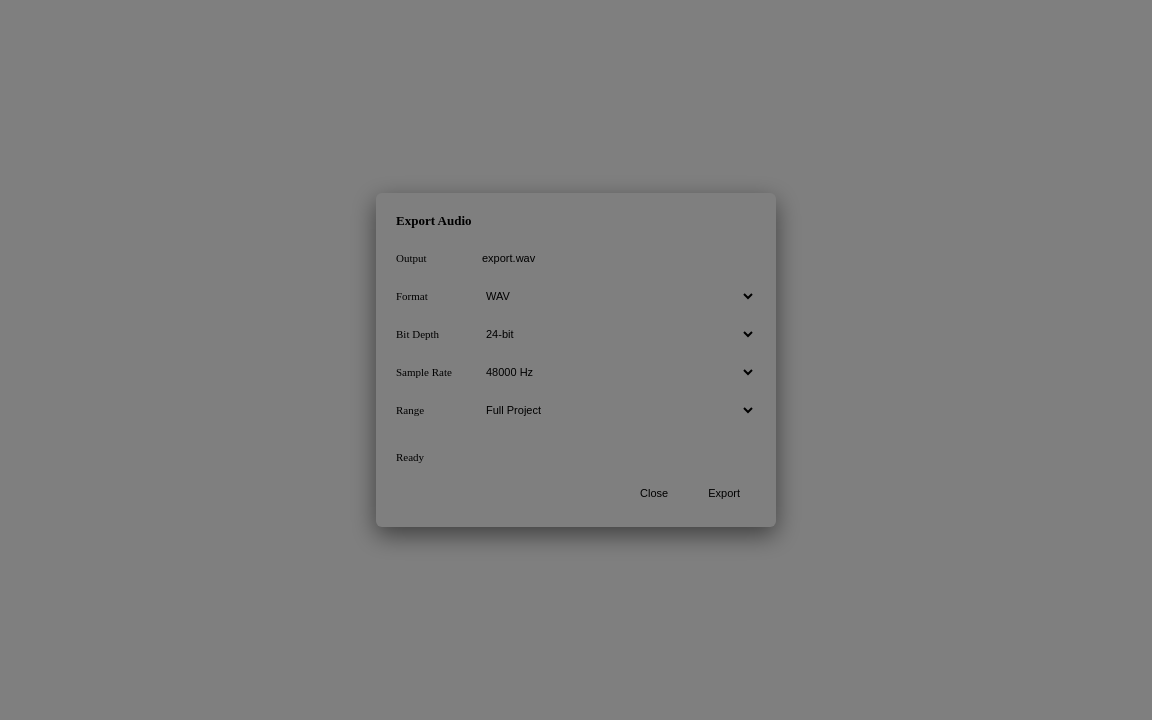
it: ExportDialog › export button is disabled when output path is empty
Expected: the button "Export" is enabled, [692,479,756,507]
Step 1. Clear the field → coordinates (615, 258), box [474,245,756,271]
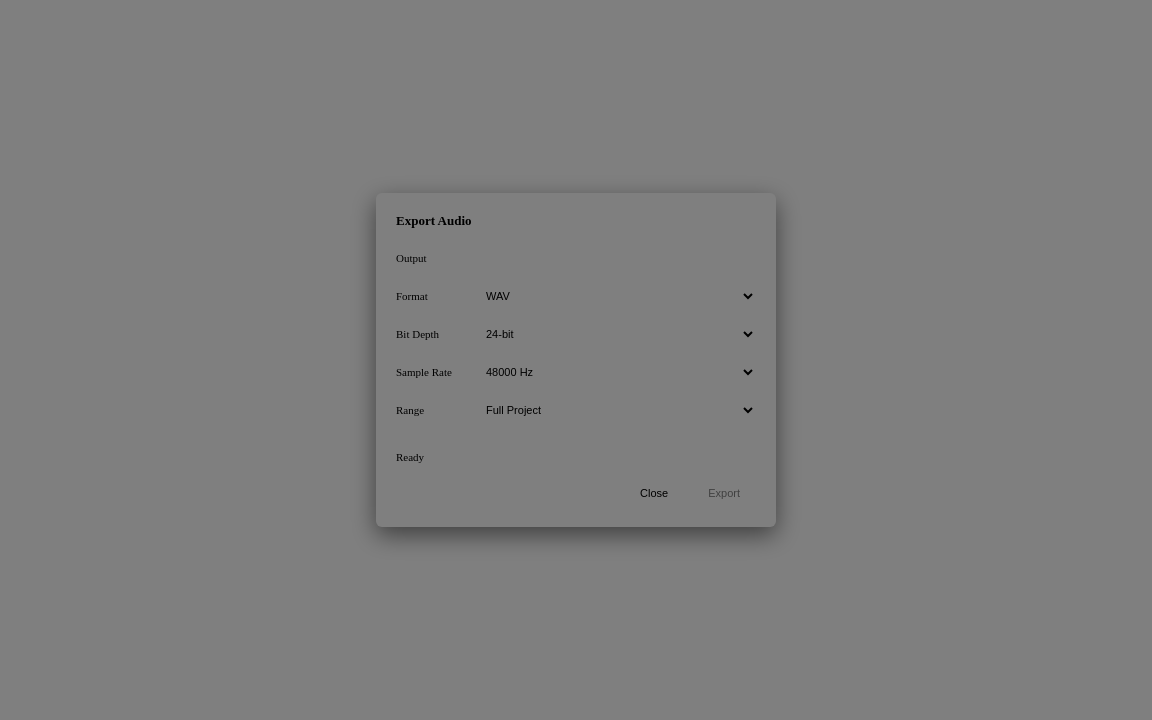
Result: the button "Export" is disabled at [692,479,756,507]
